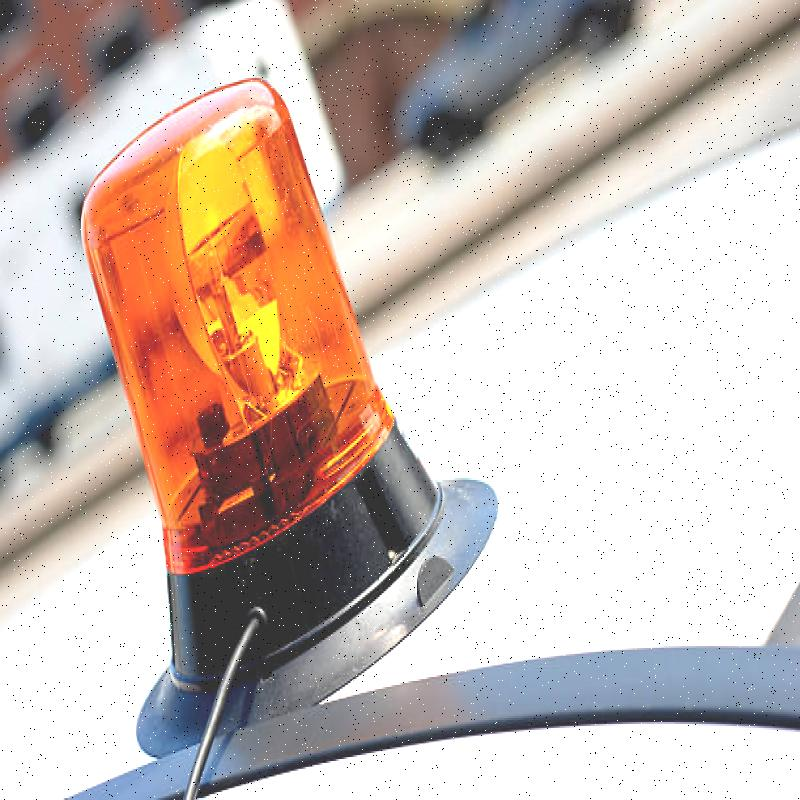AmbulanceSiren: (68, 40, 384, 615)
